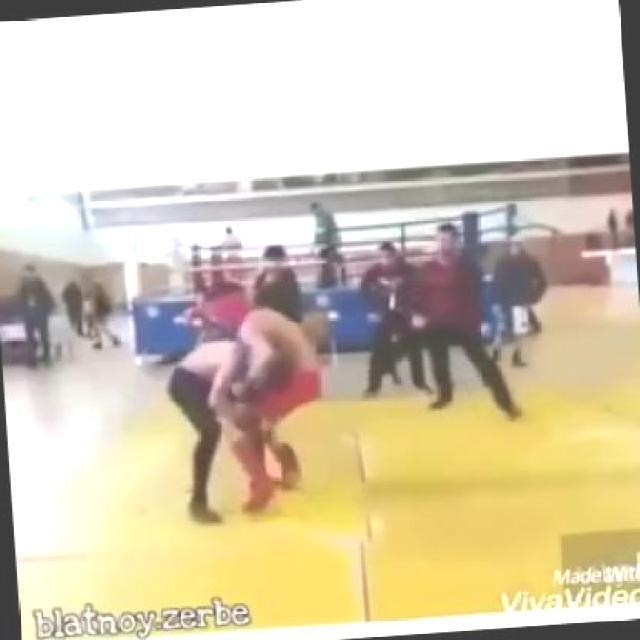fight: (154, 284, 338, 533)
